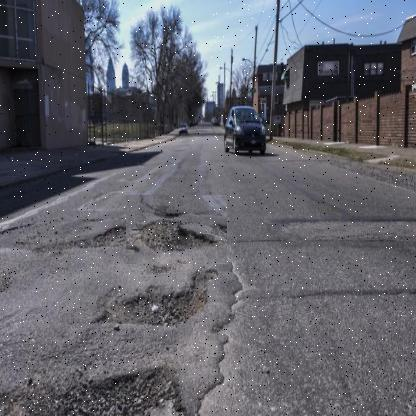pothole: (101, 267, 217, 335), (125, 195, 227, 266)
